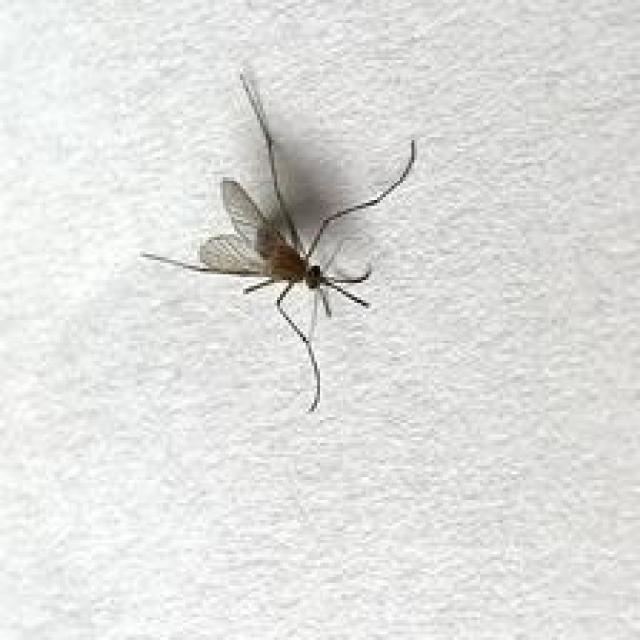Culex: (140, 67, 417, 413)
